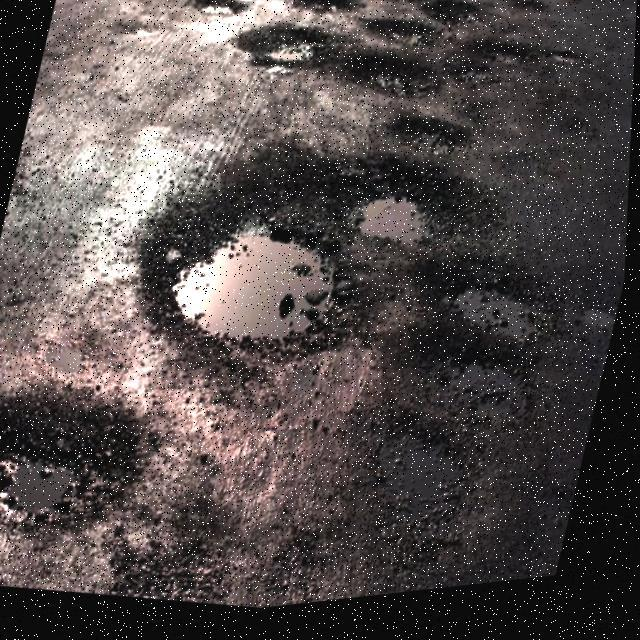pothole: (148, 183, 374, 394), (0, 358, 163, 562), (358, 412, 488, 570), (436, 20, 604, 137), (432, 266, 576, 382), (407, 346, 552, 448), (338, 174, 468, 282), (232, 5, 350, 95), (337, 40, 449, 121), (382, 106, 488, 175), (358, 2, 458, 70), (425, 0, 490, 46), (358, 0, 444, 30), (292, 0, 364, 31), (186, 0, 244, 33), (222, 0, 279, 1)
